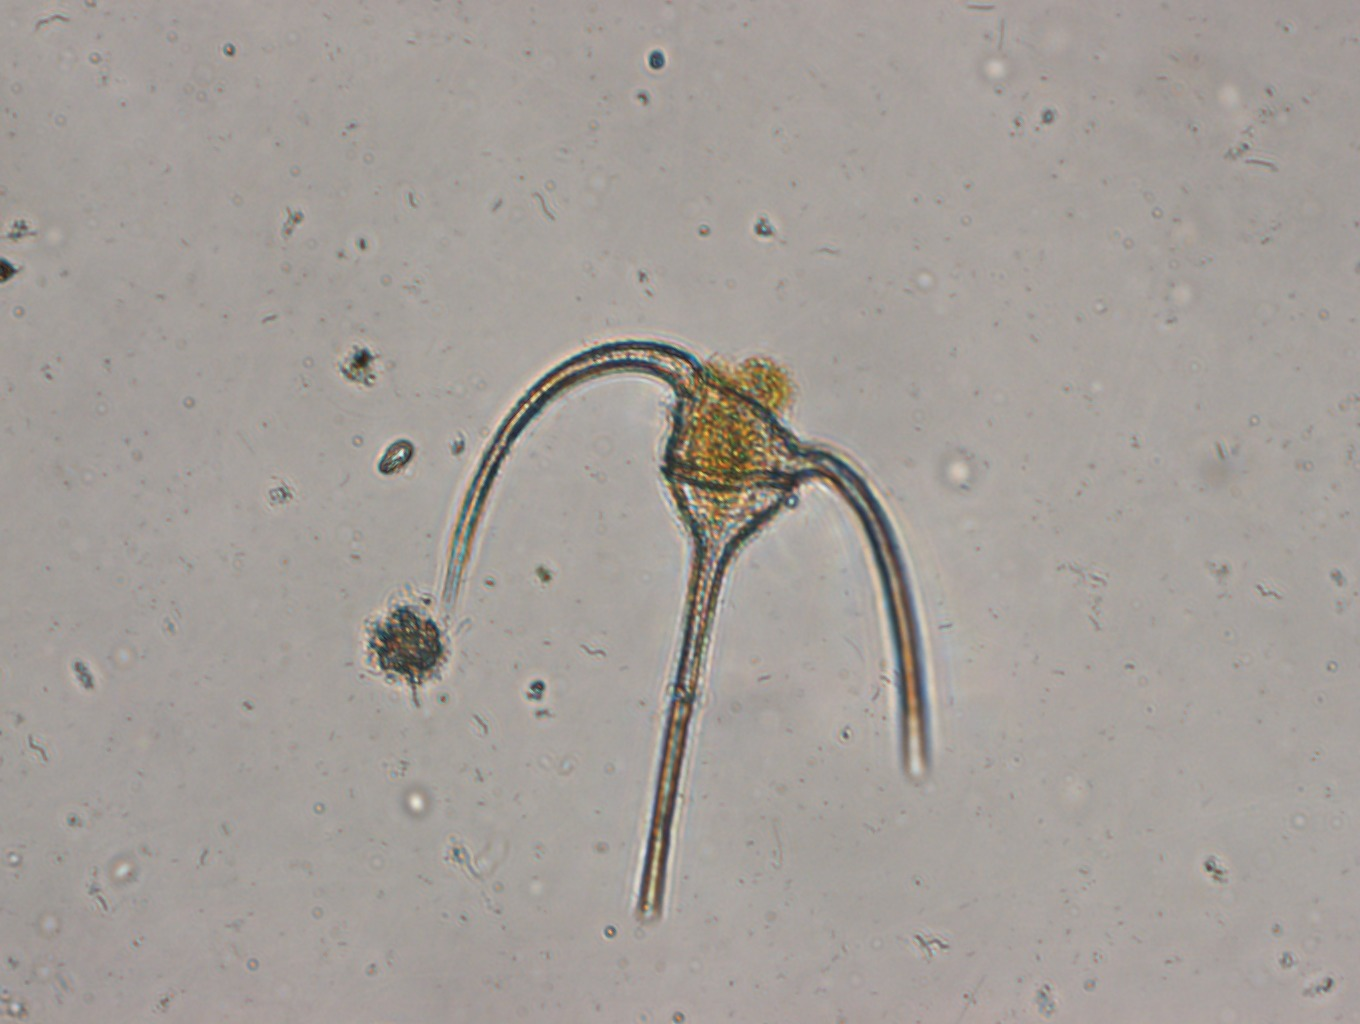ceratium trichoceros: (434, 322, 945, 928)
